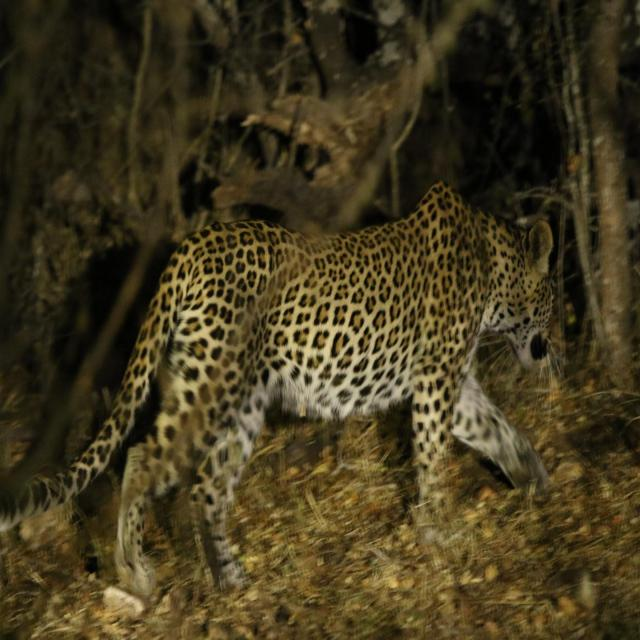Leopard: (11, 194, 586, 580)
